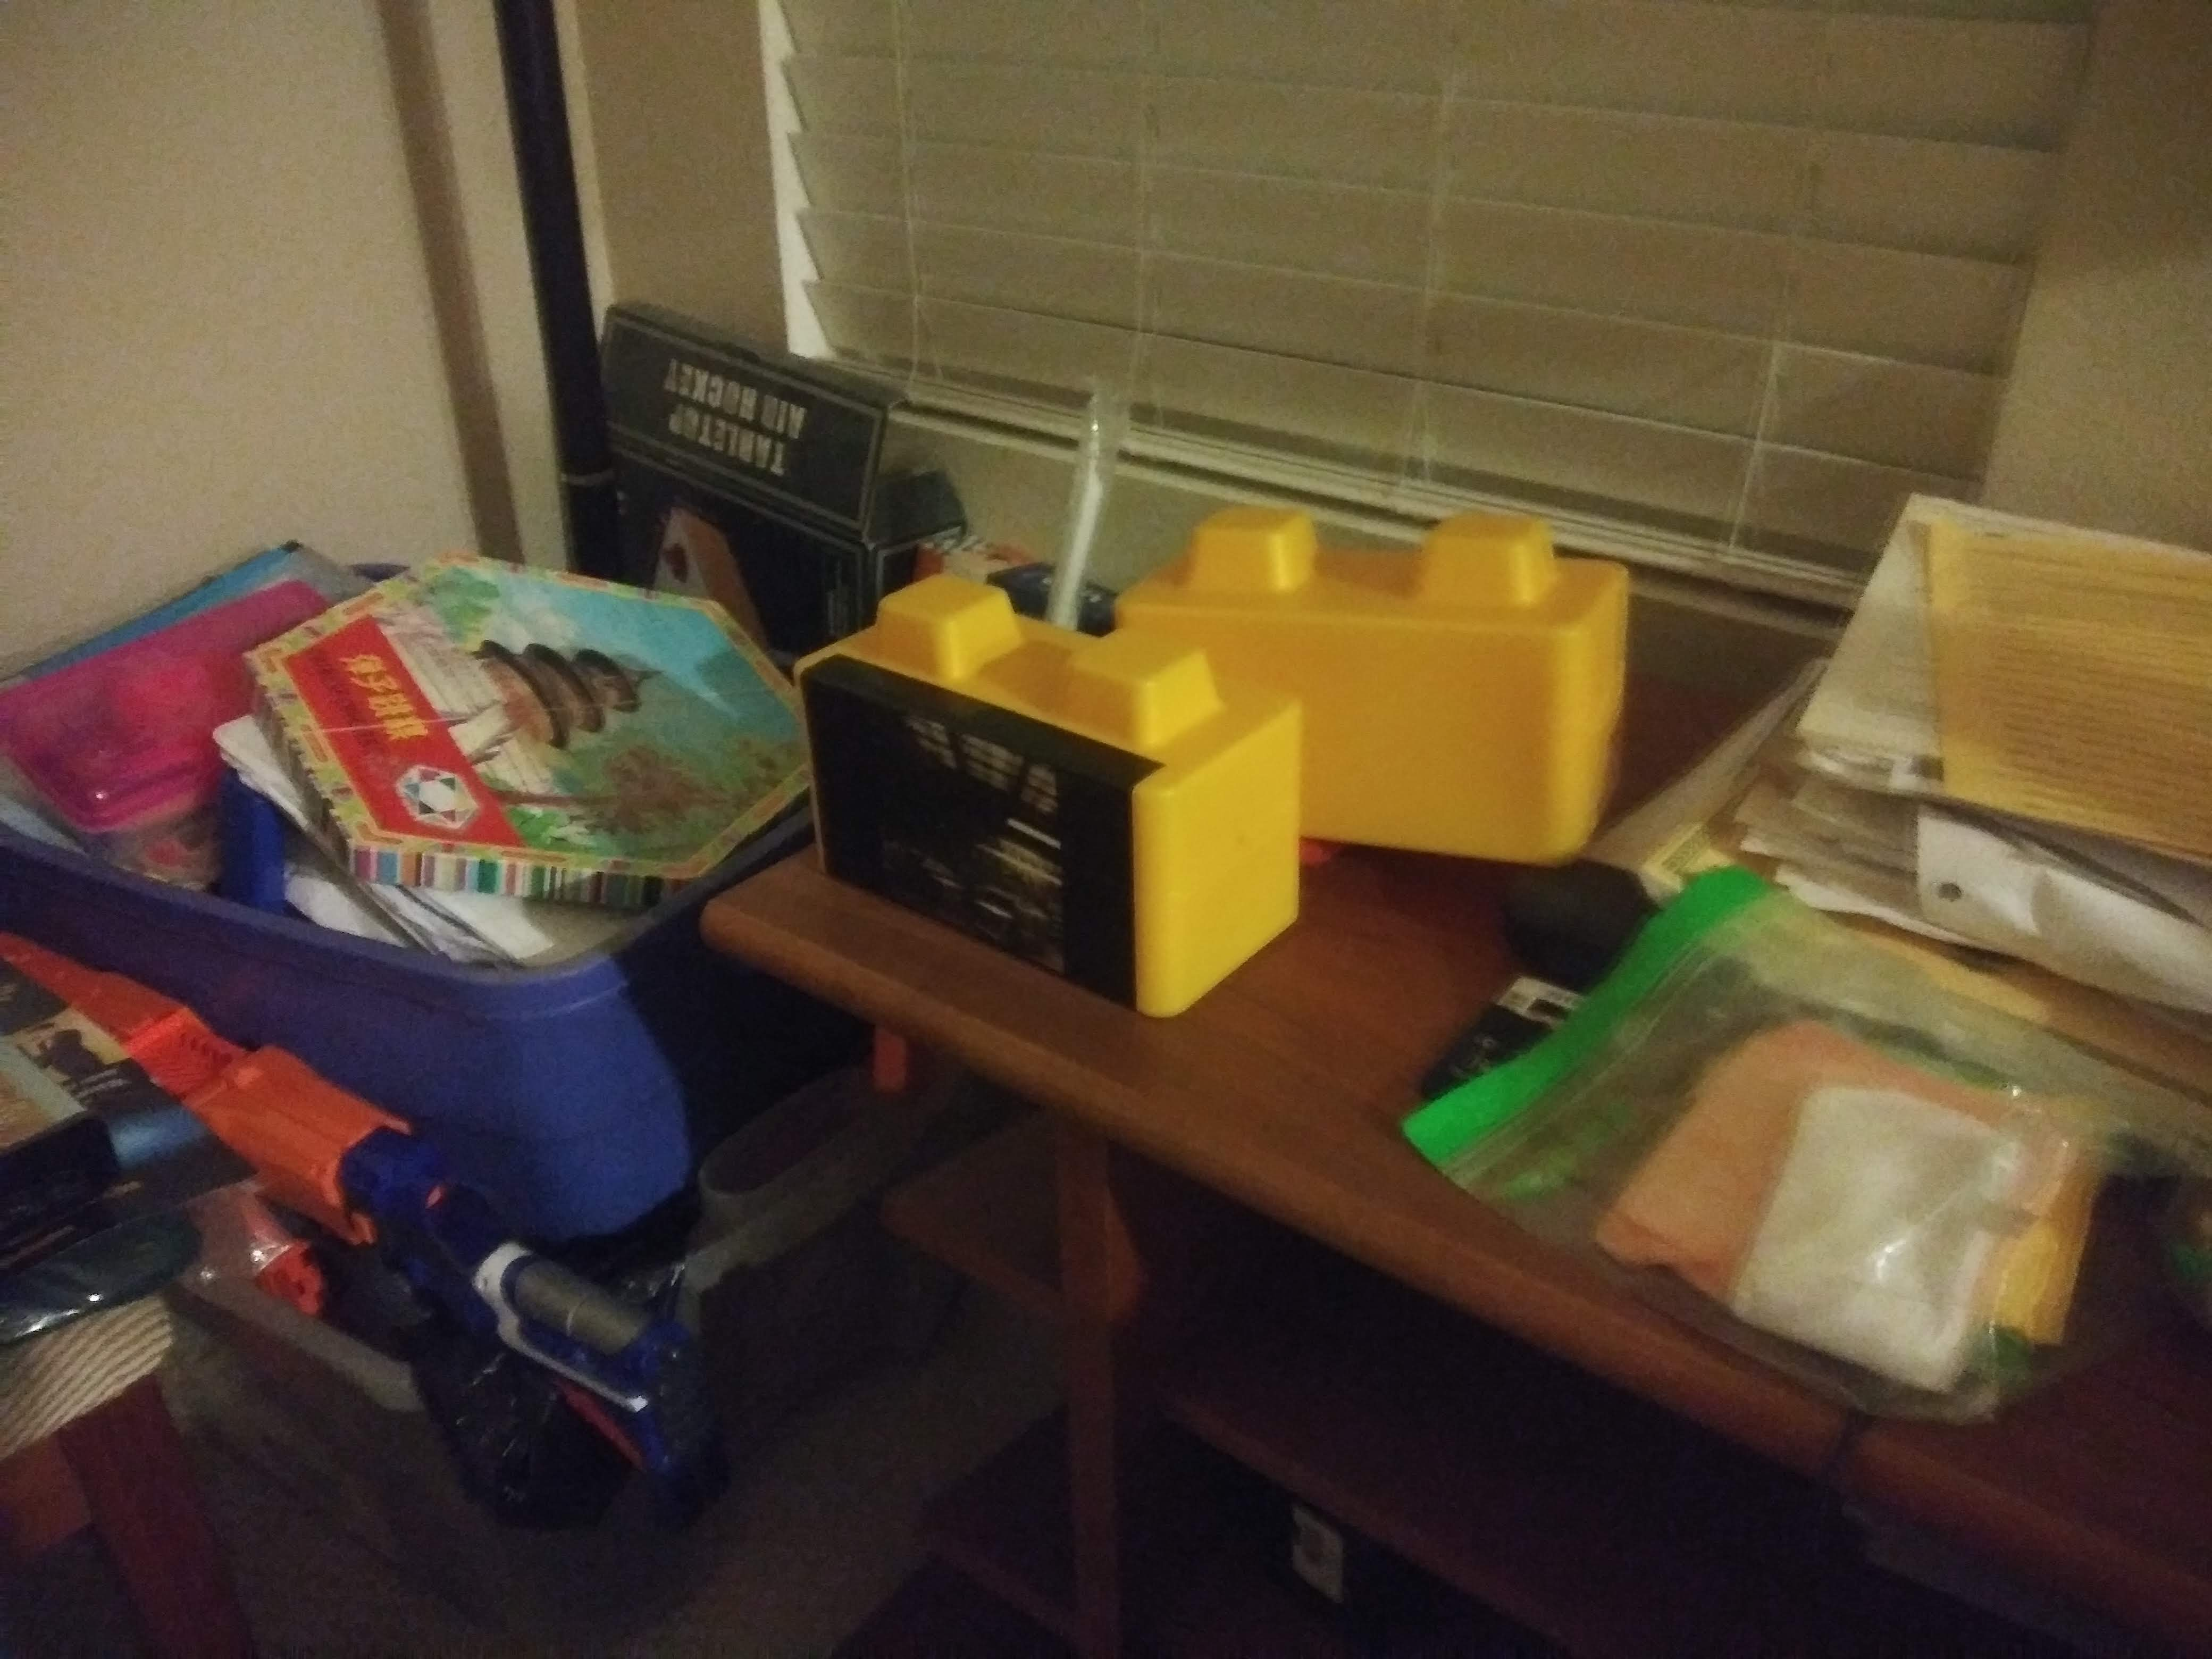skystone: (799, 655, 1268, 983)
stone: (1310, 568, 1608, 849)
